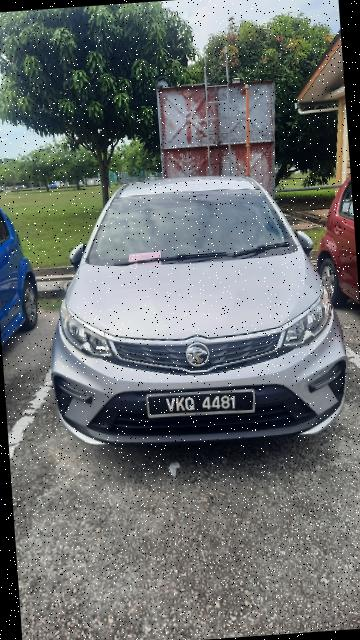License_Plate: (142, 382, 262, 425)
car: (33, 158, 360, 461)
